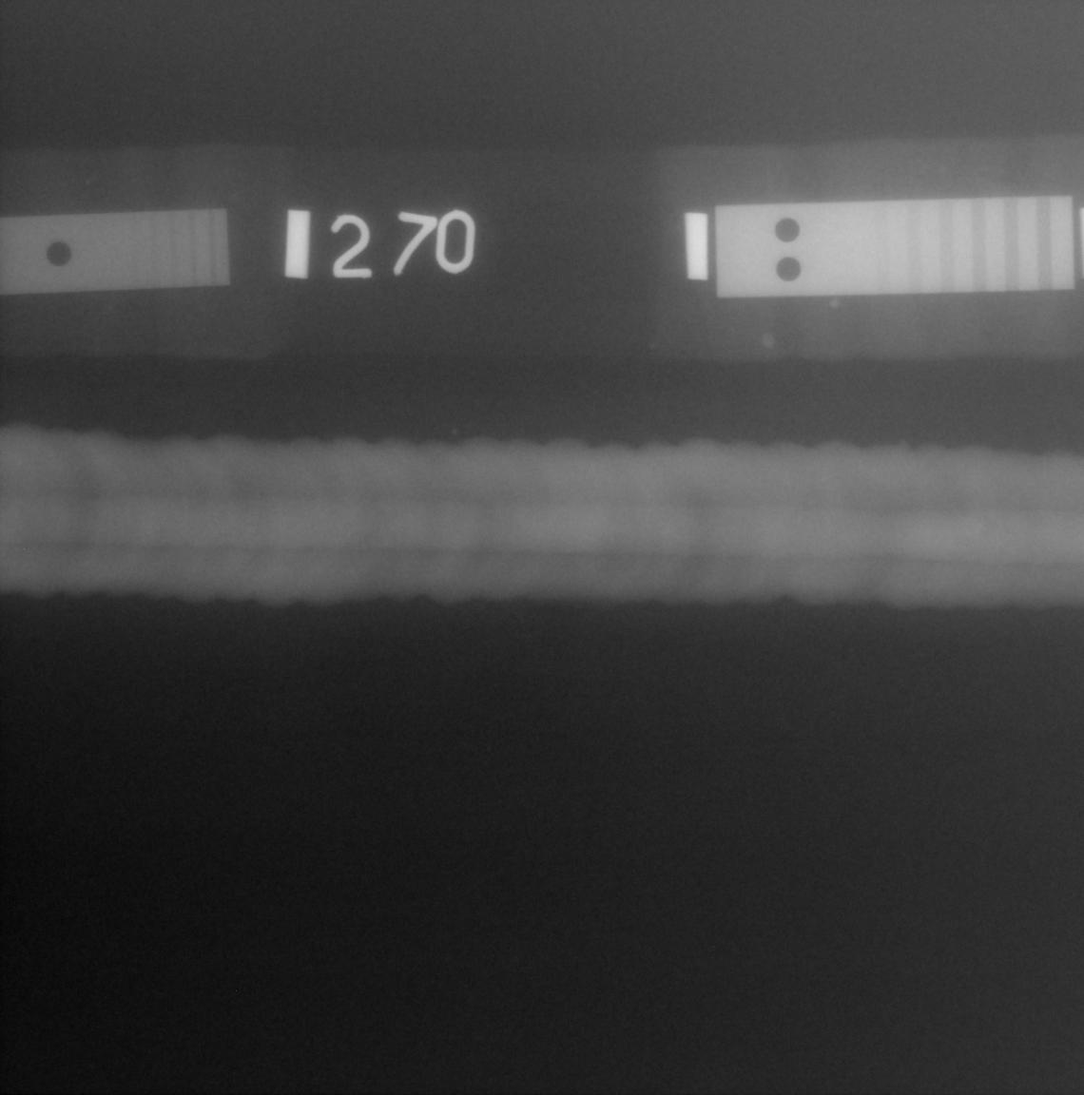Reference Standard 2: (714, 195, 1075, 298)
